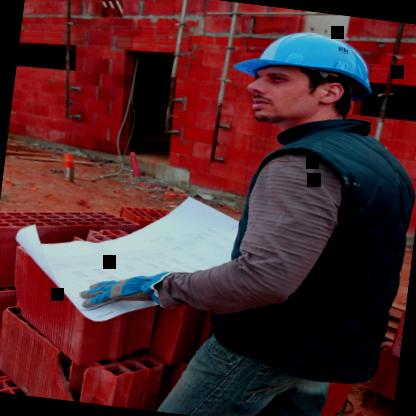helmet: (224, 19, 391, 145)
